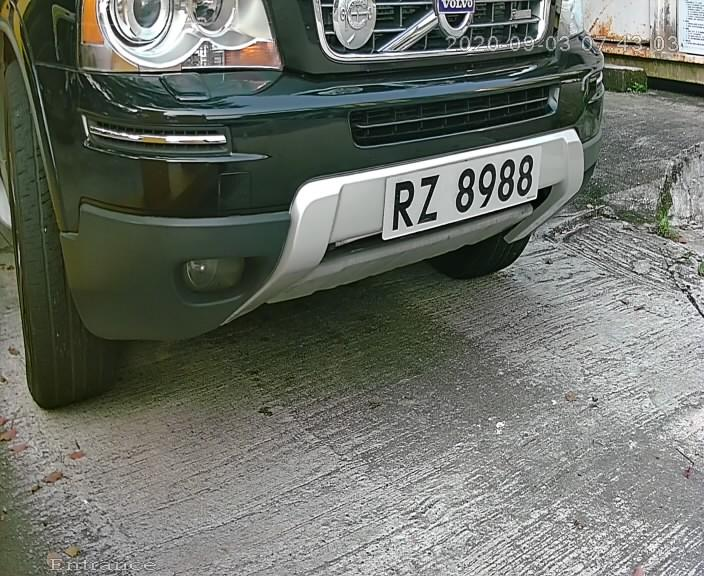License Plate: (368, 137, 551, 245)
